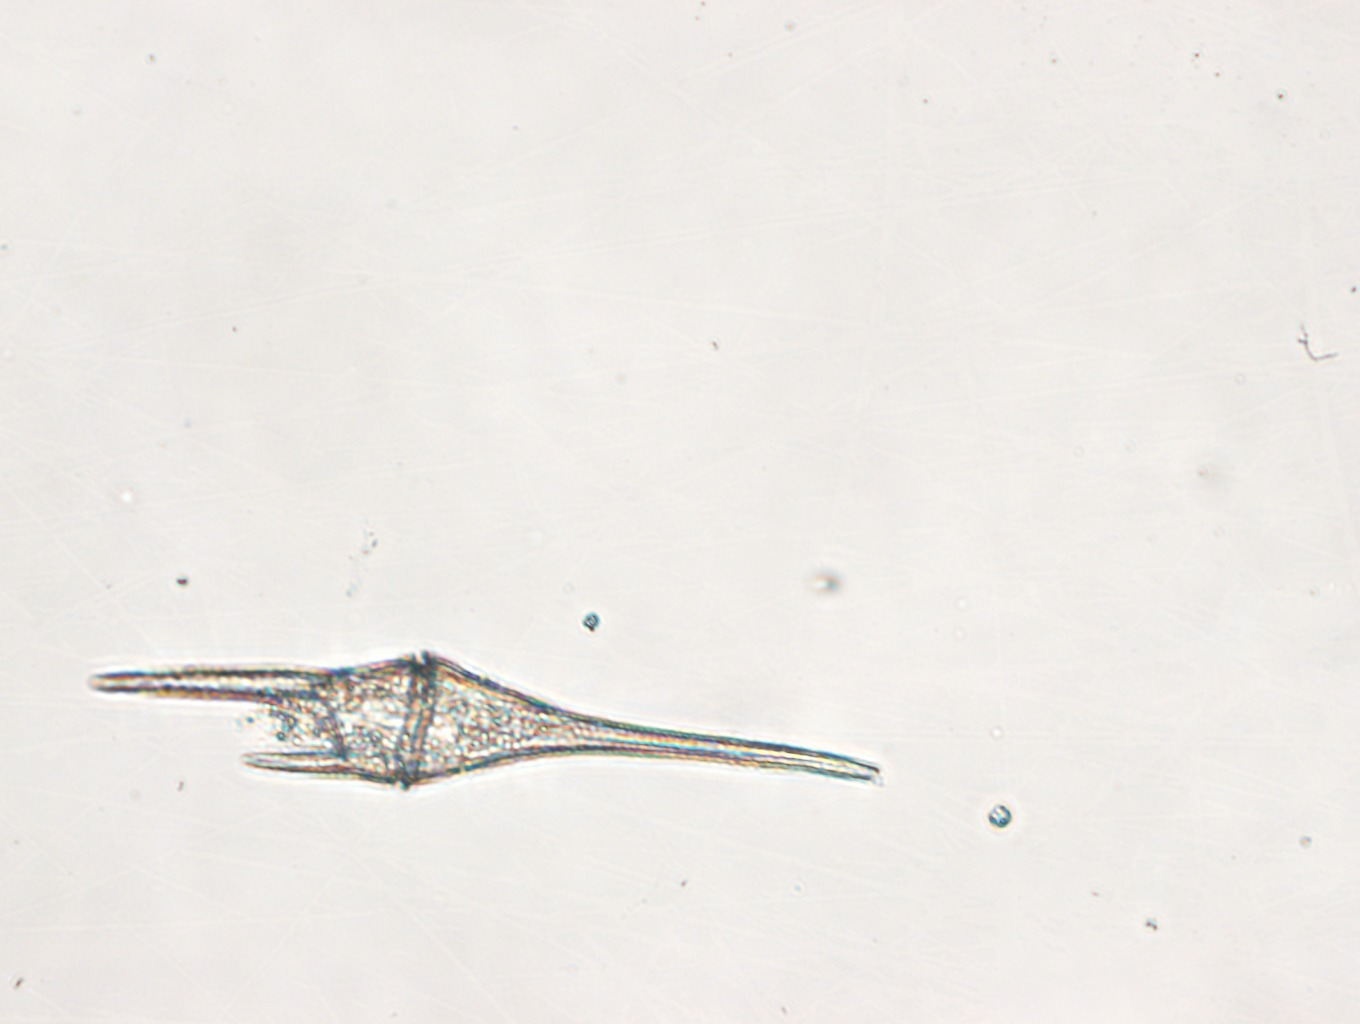ceratium furca: (90, 649, 885, 791)
